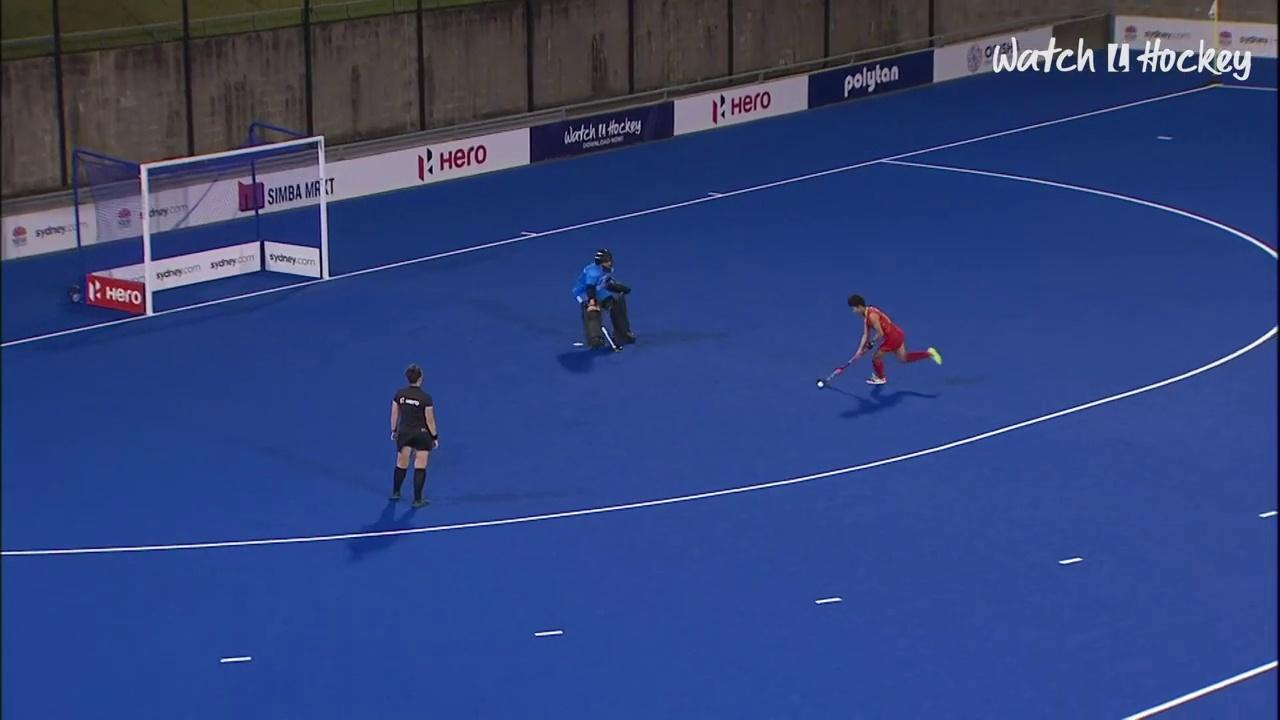ball: (814, 376, 833, 399)
